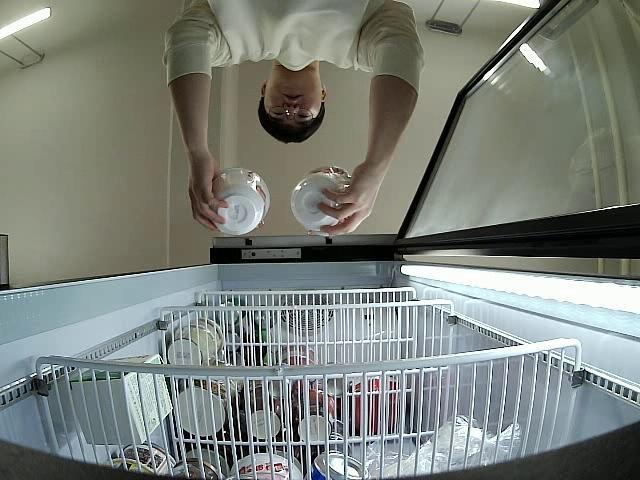09_yukGaeJang: (290, 170, 355, 238), (212, 168, 272, 236)
